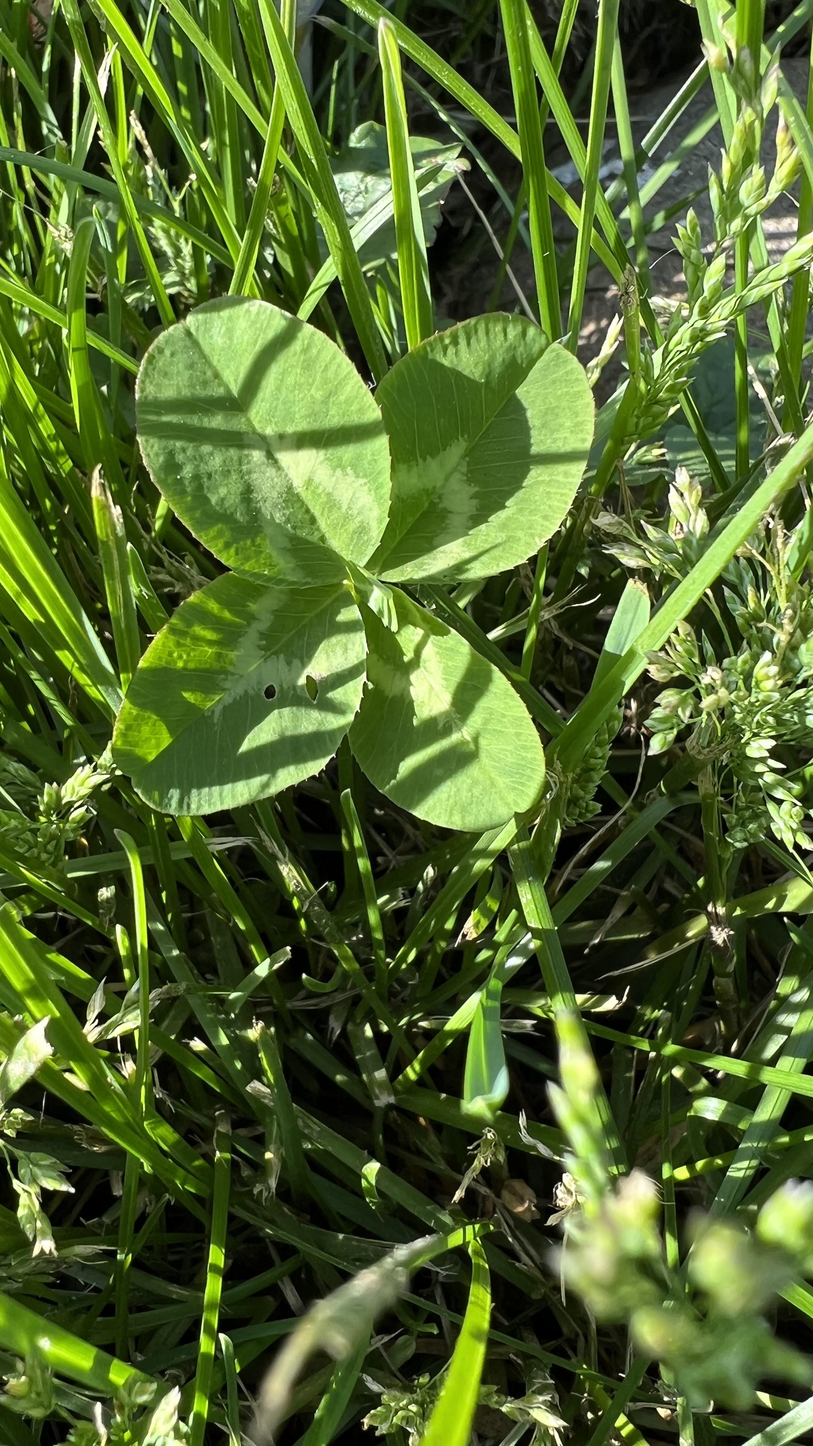4-Leaf-Clovers: (170, 387, 465, 1250)
